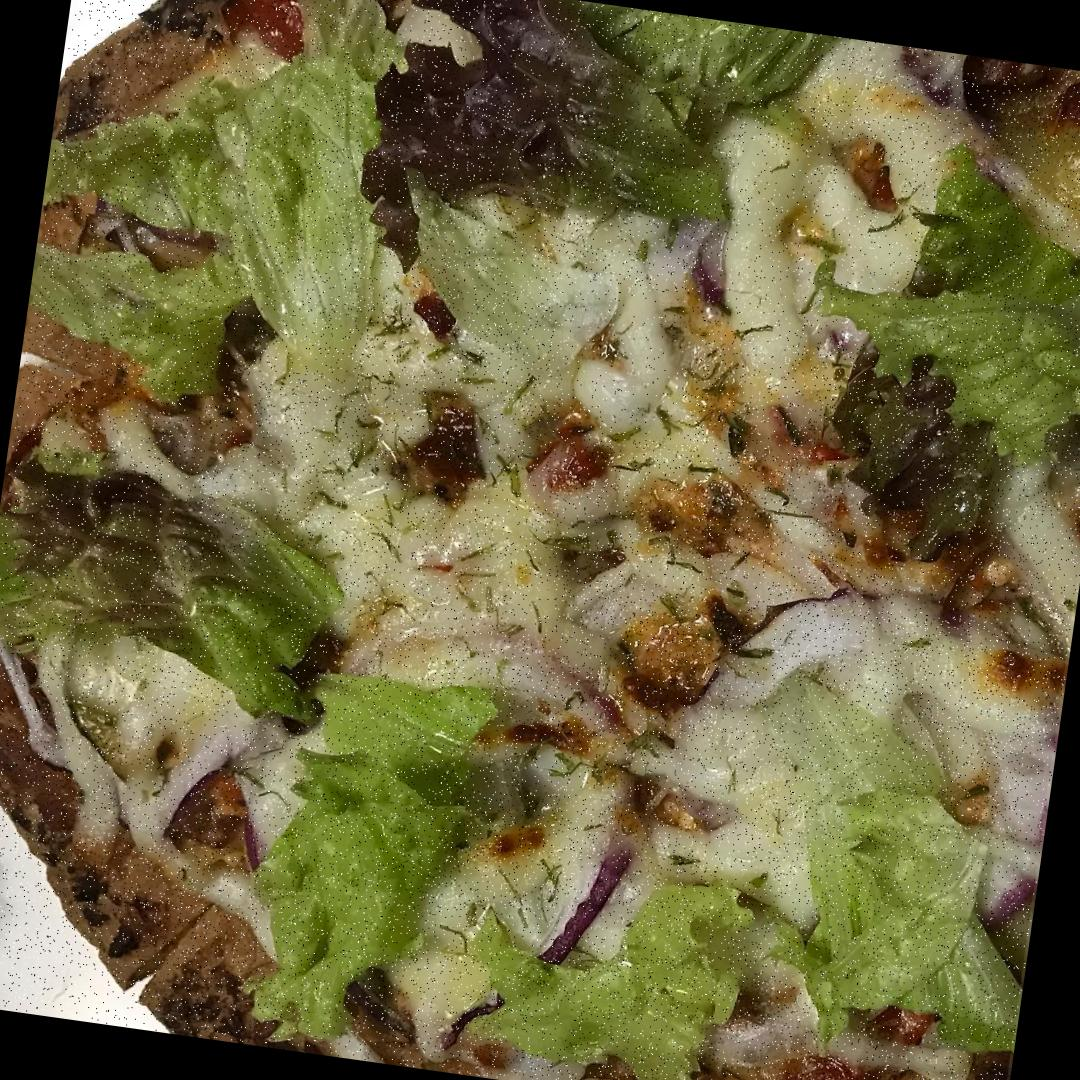Cheese: (304, 468, 587, 642), (712, 137, 925, 354), (772, 592, 1062, 728), (559, 282, 701, 445), (805, 48, 950, 170)
Pizza: (0, 0, 1080, 1080)
